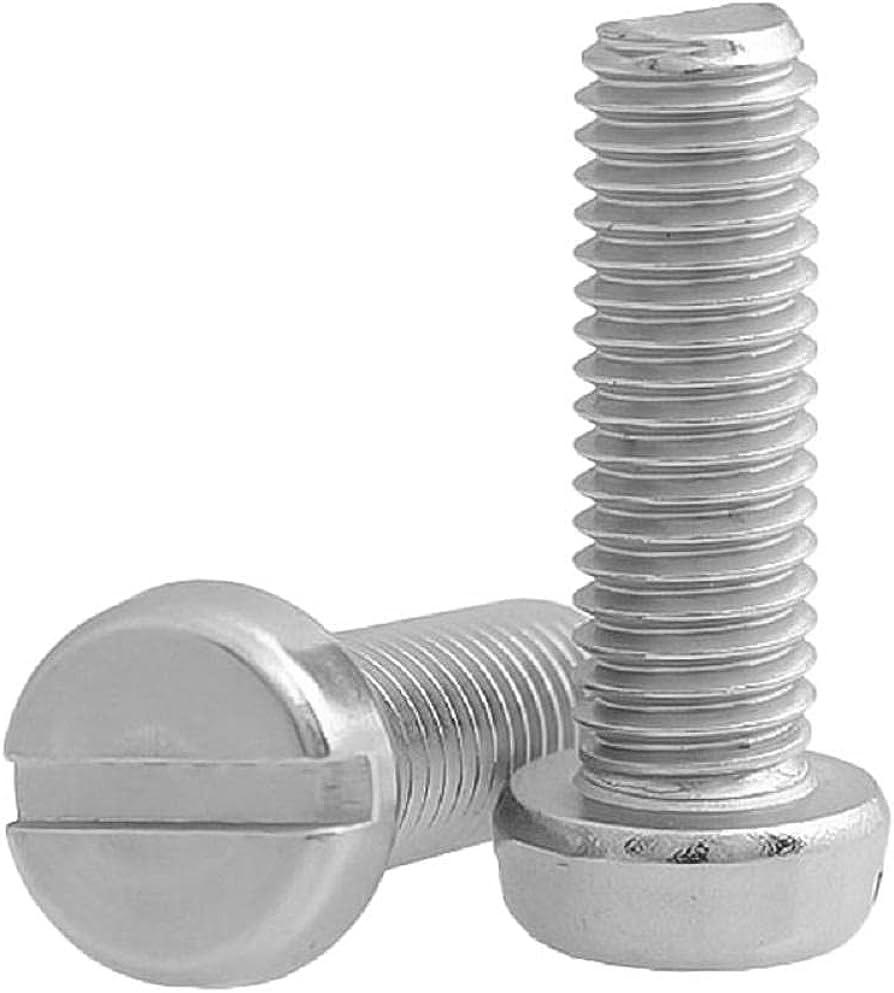slotted: (8, 578, 390, 981)
